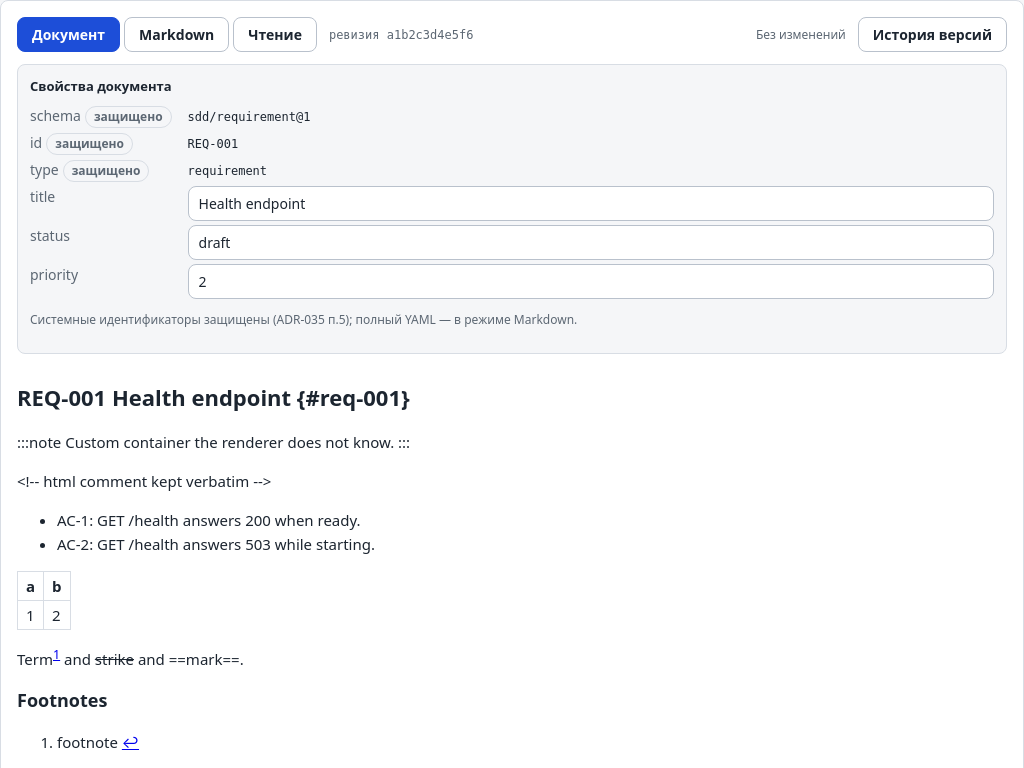
Test: MarkdownEditor (T090, ADR-035) › does not autosave without a token and says so
Click the button with test id "editor-mode-markdown" at (177, 34), box top-left (124, 17), bottom-right (229, 52)
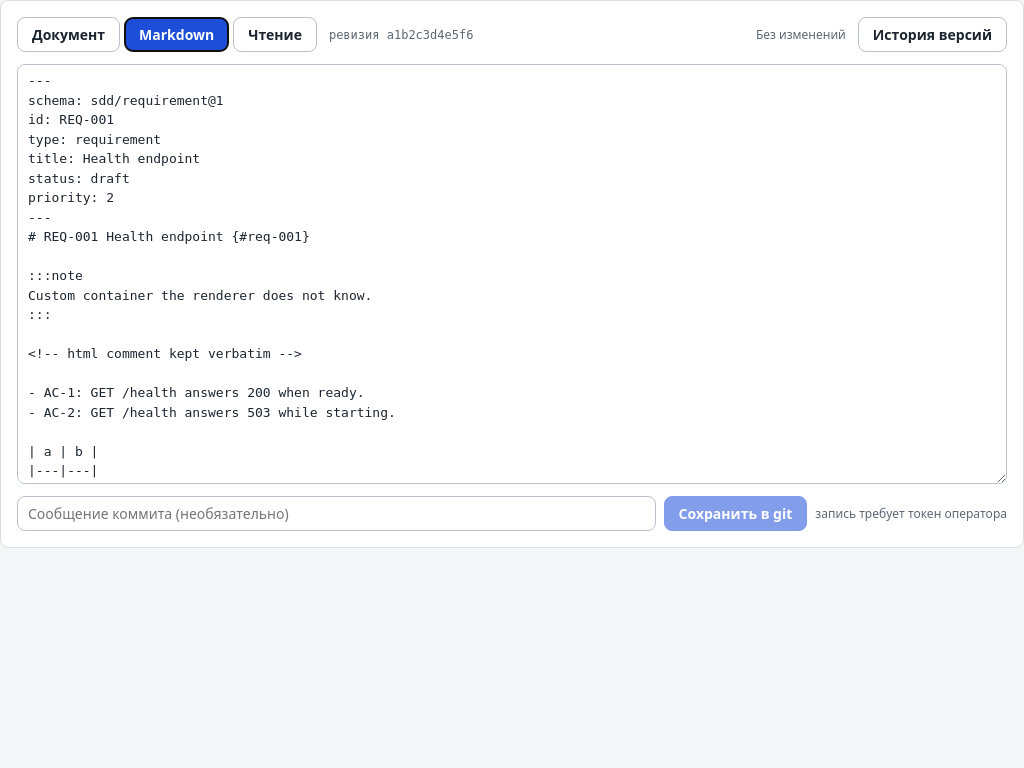
Type "q" into the text box with test id "editor-textarea" at (512, 274), box top-left (17, 64), bottom-right (1007, 484)
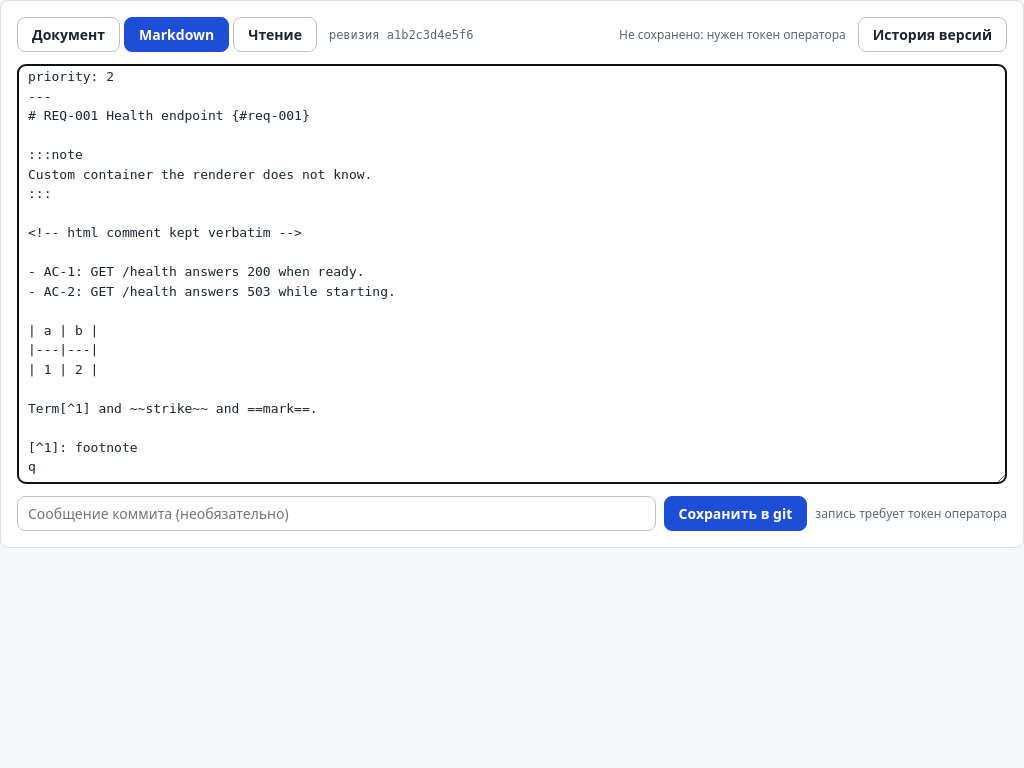
Now the message with test id "editor-save-state" shows "нужен токен оператора", box top-left (619, 26), bottom-right (846, 42)
